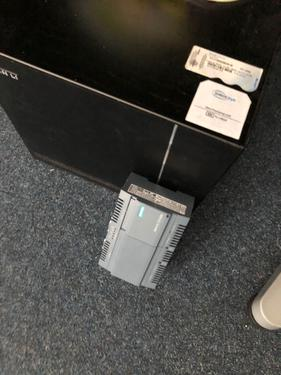device: (99, 172, 196, 290)
